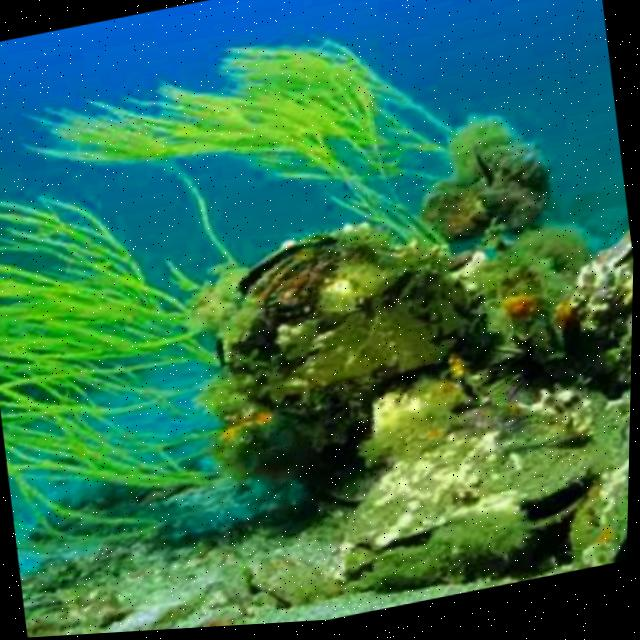Oyster-Closed: (475, 135, 549, 228), (587, 236, 633, 282)
Oyster-Open: (215, 235, 499, 447), (359, 407, 607, 571), (569, 465, 629, 572)
